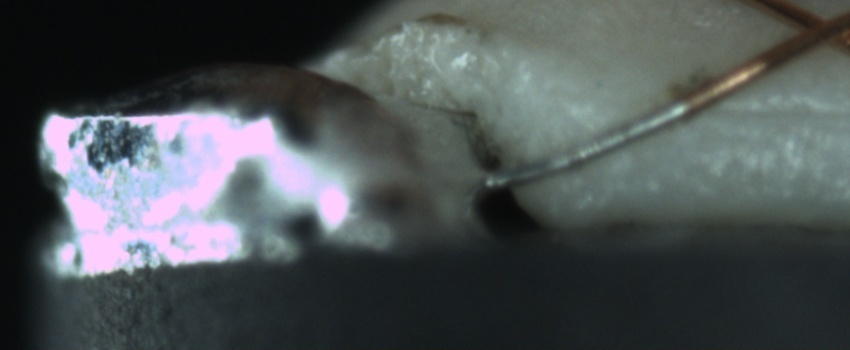CL: (780, 3, 849, 55)
DL: (726, 82, 849, 142)
TS: (482, 101, 693, 188)
